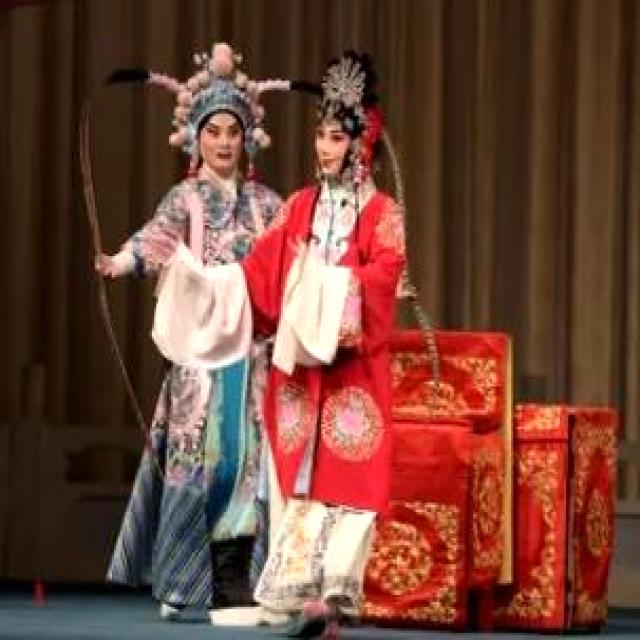Reeves-s Pheasant: (97, 280, 139, 420), (78, 97, 97, 270), (406, 284, 437, 389), (380, 130, 403, 213), (281, 81, 315, 92), (110, 69, 137, 81)
